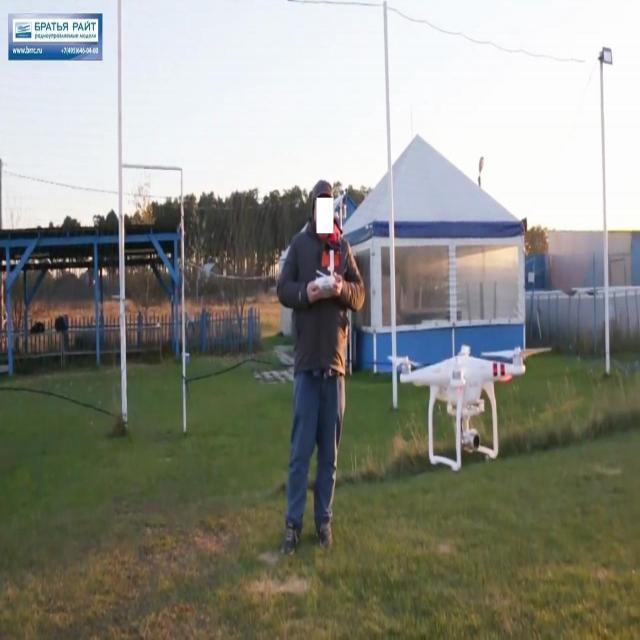drones: (380, 314, 557, 489)
